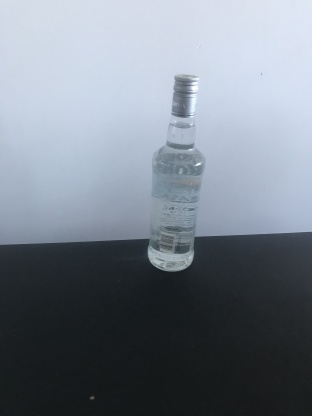nakretka: (170, 72, 201, 119)
